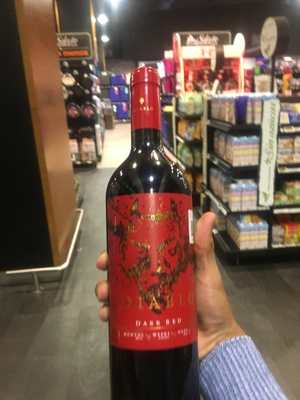diablo dark red: (94, 66, 214, 398)
